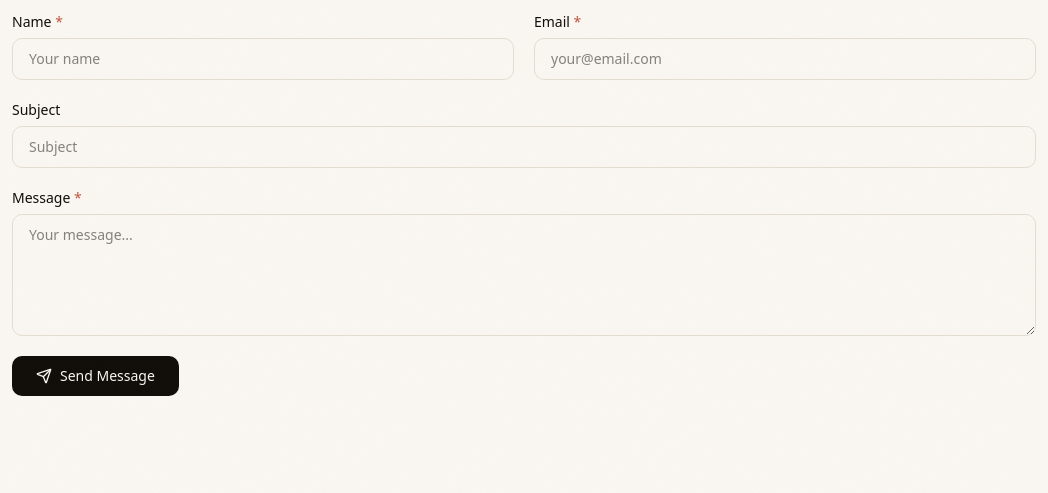
ContactForm › should show network error on fetch failure
In the field labelled "Name *": point(263, 59) [12, 38, 514, 80], type "Jane"
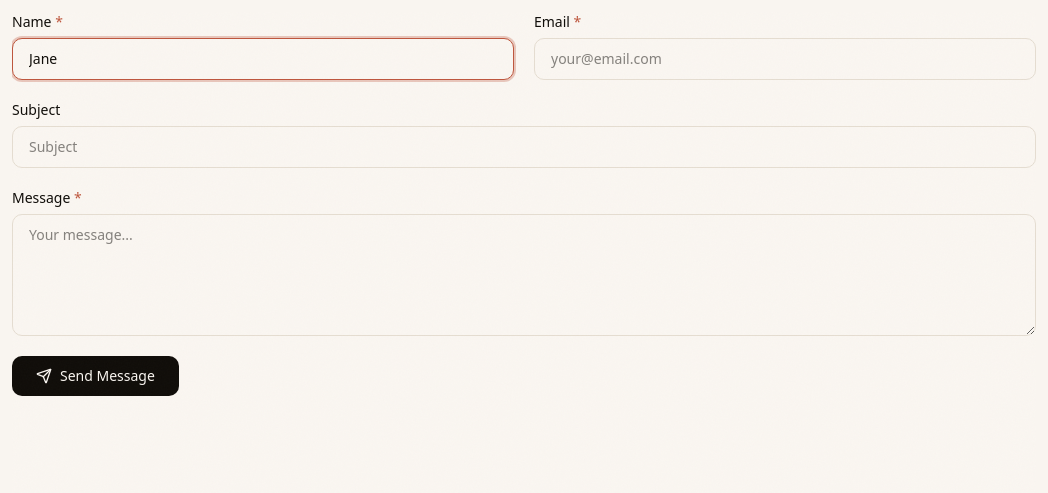
In the field labelled "Email *": point(785, 59) [534, 38, 1036, 80], type "jane@example.com"
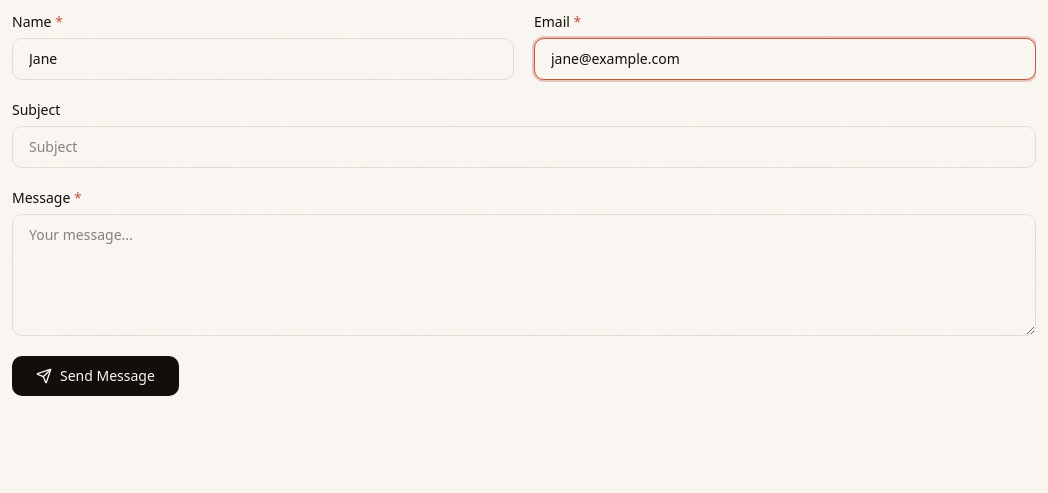
In the text box labelled "Message *": point(524, 275) [12, 214, 1036, 336], type "This is a sufficiently long test message body."
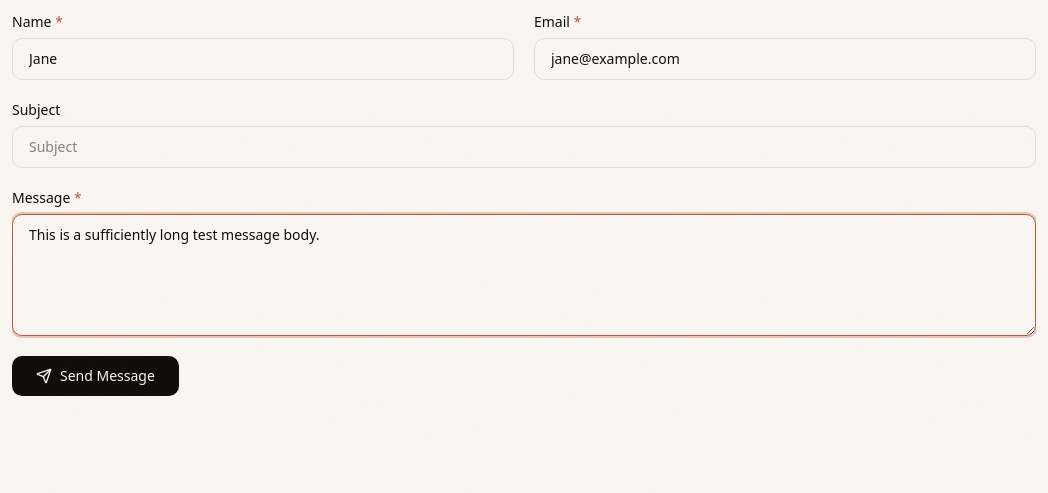
Click the button "Send Message": point(95, 376) [12, 356, 179, 396]
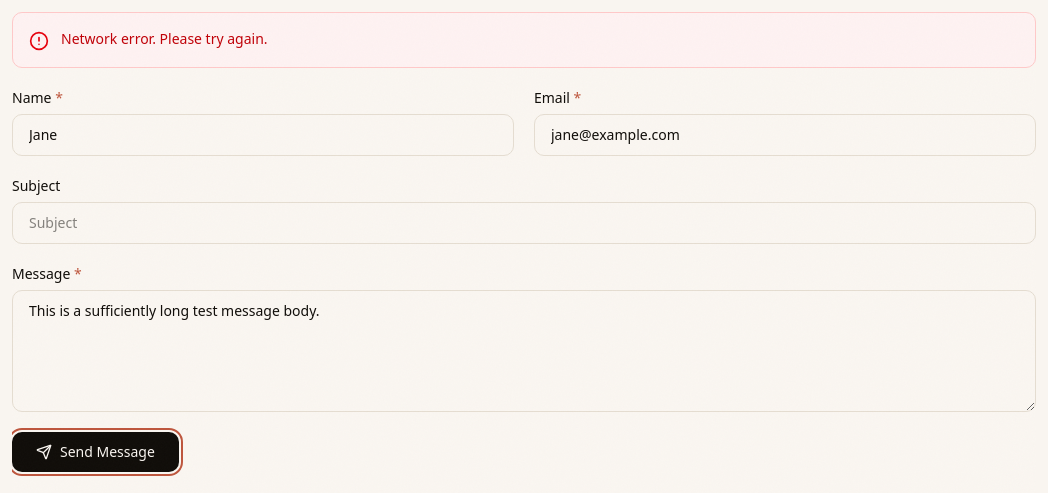
Result: the text "Network error. Please try again." is shown at [61, 29, 268, 49]
